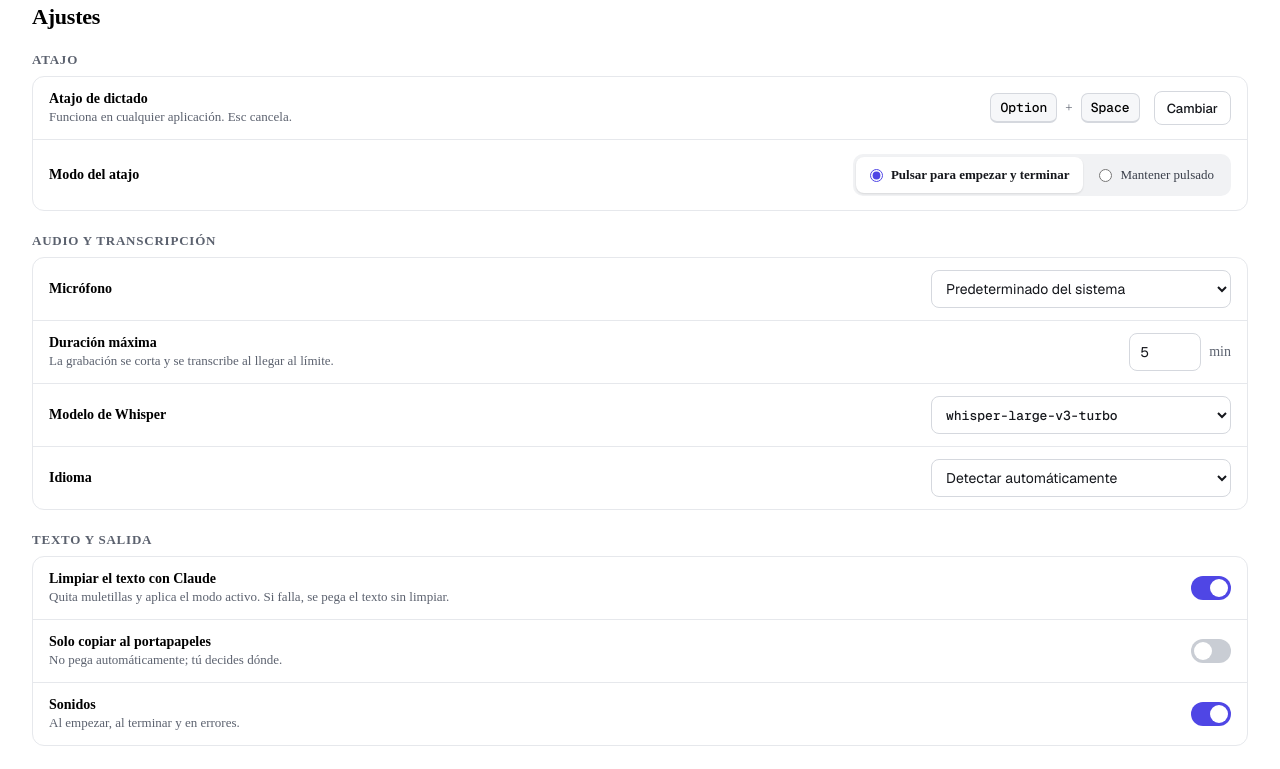
Test: Settings › captura un atajo nuevo con el teclado
The width and height of the screenshot is (1280, 769).
Click the button "Cambiar". click: (1192, 108)
box: [1154, 91, 1231, 125]
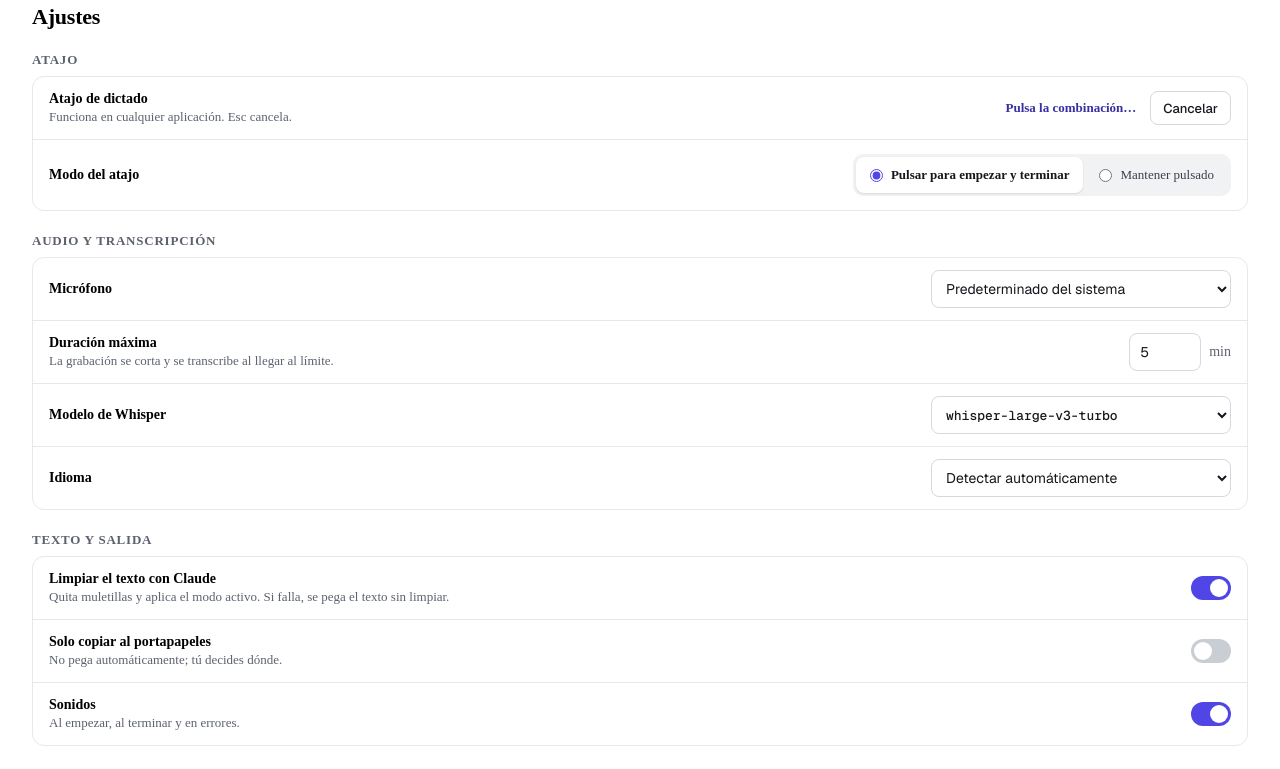
Expected: the text "Pulsa la combinación…" is shown, [1006, 100, 1136, 116]
Press k in the button named "Cambiar", box [1150, 91, 1231, 125]
(page scrolled)
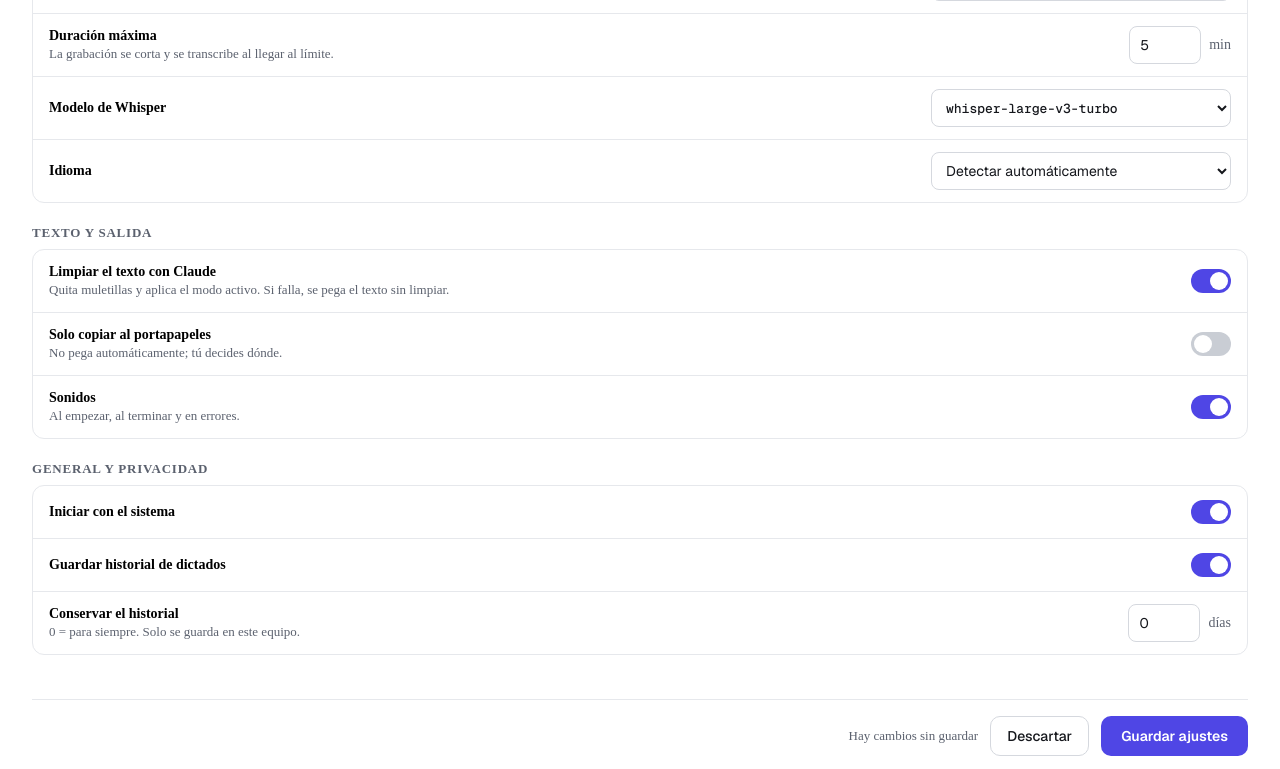
Expected: the text "Hay cambios sin guardar" is shown, [849, 728, 978, 744]
